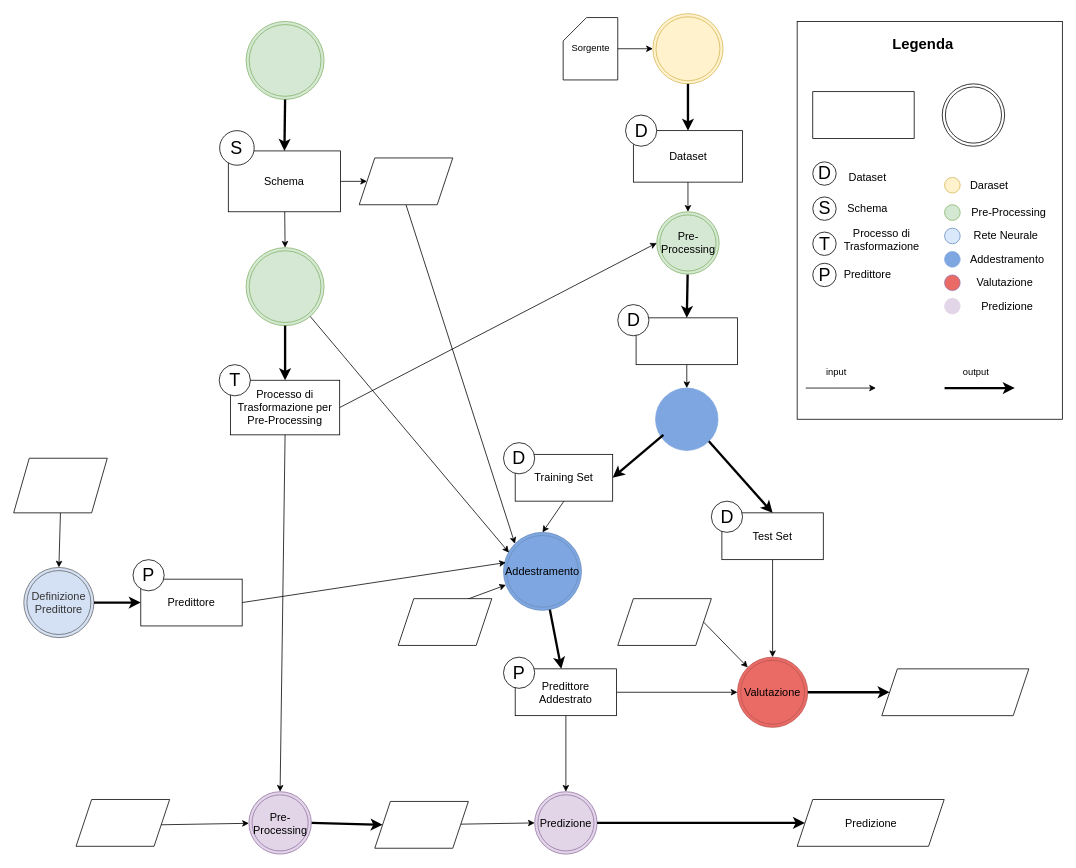
This 1076x868 diagram has some shape labels left out. The centre of each missing label's shape, as x and y in pixels:
Dataset processato: point (686, 341)
Definizione Dataset: point (687, 48)
Definizione Processo di Trasformazione: point (284, 286)
Definizione Schema: point (284, 60)
Divisione: point (686, 418)
Entità: point (863, 114)
Fasi: point (973, 114)
Iperparametri: point (444, 621)
Istanza: point (122, 822)
Istanza processata: point (421, 824)
Metrica: point (664, 621)
Parametri: point (60, 485)
Risultati: point (955, 692)
Target: point (405, 181)
